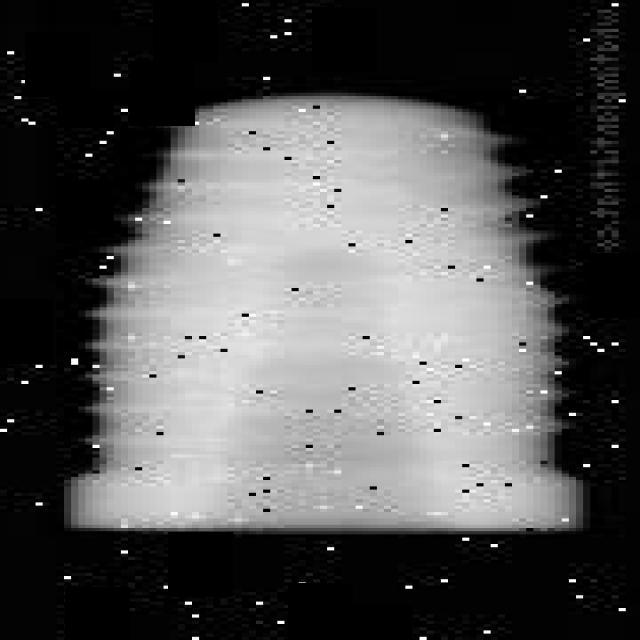Retained root: (54, 91, 591, 531)
